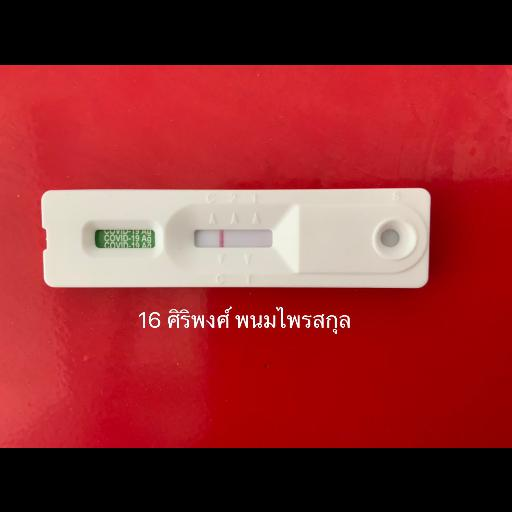Neg: (42, 188, 426, 286)
